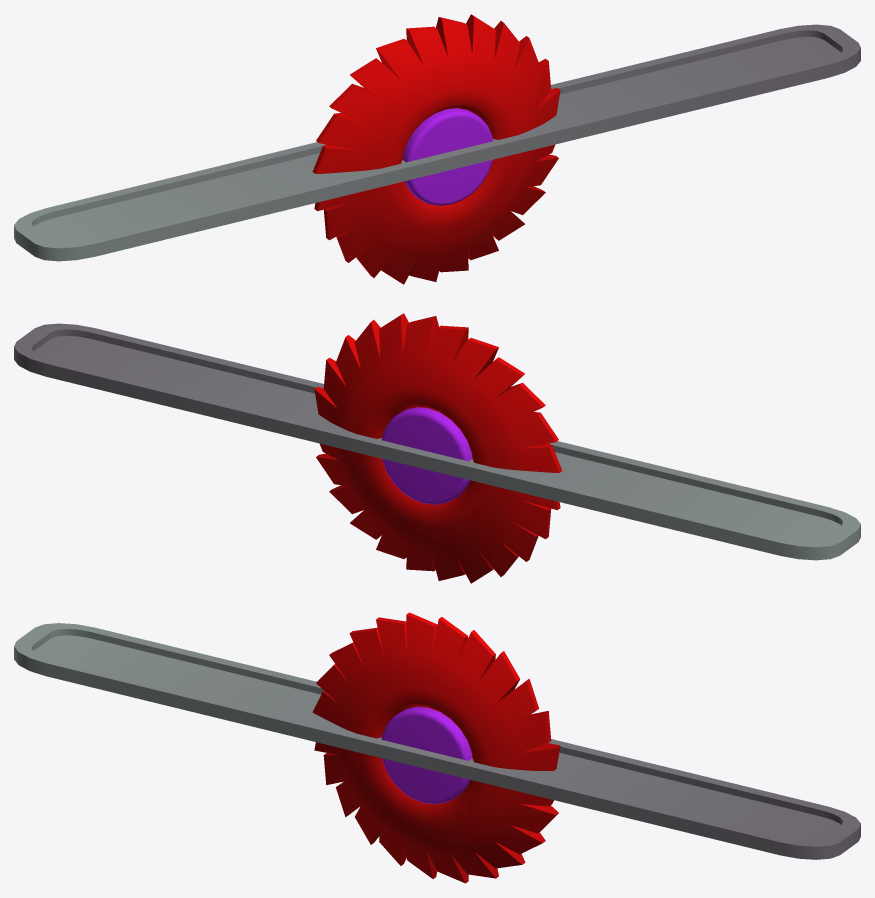
Rendered from Obs_03.fbx.
3 renders of one model, top to bottom at view 1: azimuth 30°, elevation 25°; view 2: azimuth 150°, elevation 25°; view 3: azimuth 330°, elevation 25°, orthographic.
Parts seen in each view (by area): view 1: Obs_03_Saw, Obs_03_Saw_Base; view 2: Obs_03_Saw, Obs_03_Saw_Base; view 3: Obs_03_Saw, Obs_03_Saw_Base.
Boxes of the visible parts, x1=… form: Obs_03_Saw: x1=312, y1=14, x2=560, y2=284; Obs_03_Saw_Base: x1=14, y1=24, x2=860, y2=261; Obs_03_Saw: x1=314, y1=313, x2=562, y2=583; Obs_03_Saw_Base: x1=14, y1=323, x2=860, y2=560; Obs_03_Saw: x1=312, y1=612, x2=560, y2=883; Obs_03_Saw_Base: x1=14, y1=623, x2=860, y2=859.
Size of the model in its own units: 5.06 by 1.54 by 0.5181.
